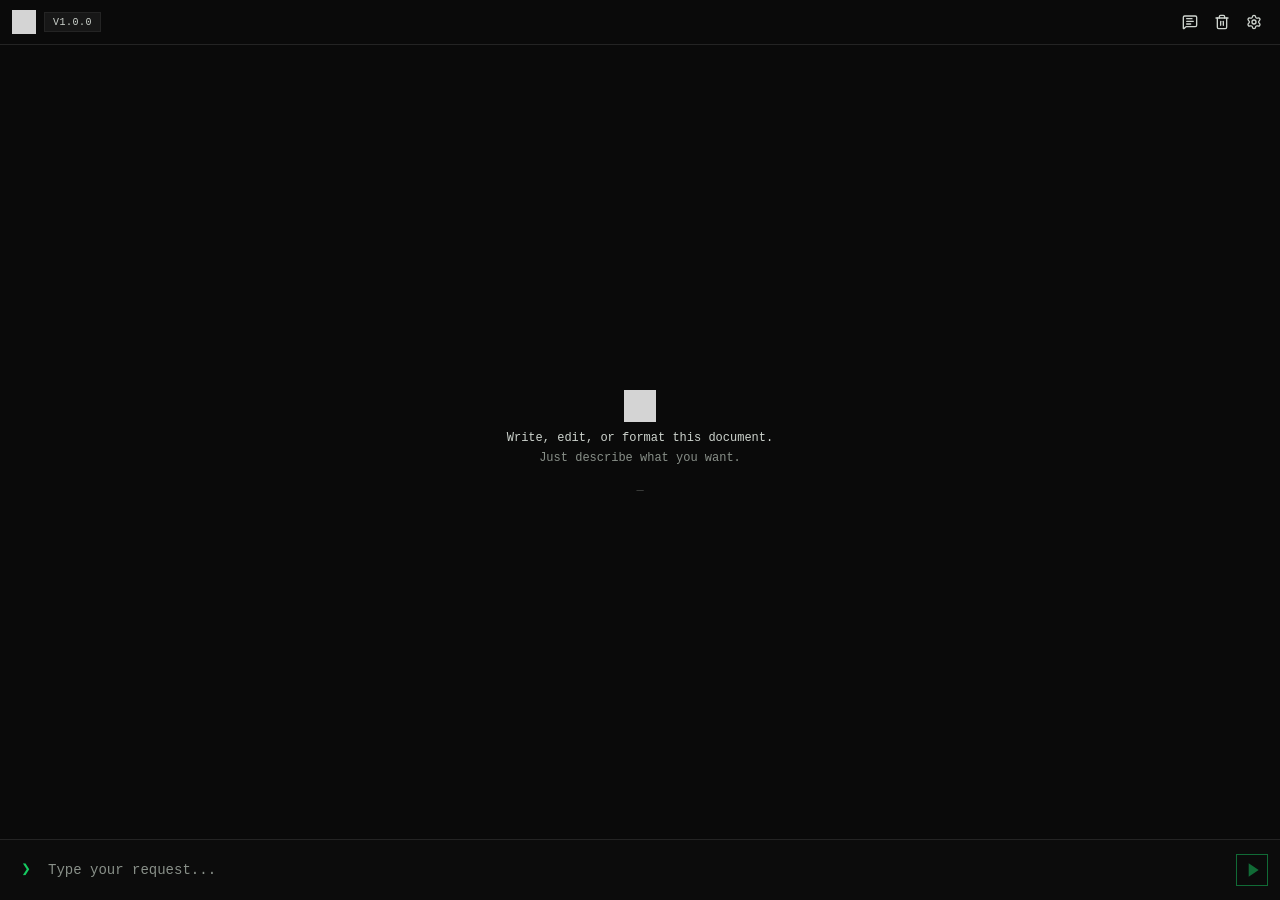
Scenario: App › enables send button when text is typed
(page scrolled)
In the text box with placeholder "Type your request...": (638, 870) x1=48 y1=852 x2=1228 y2=888, type "Hello"
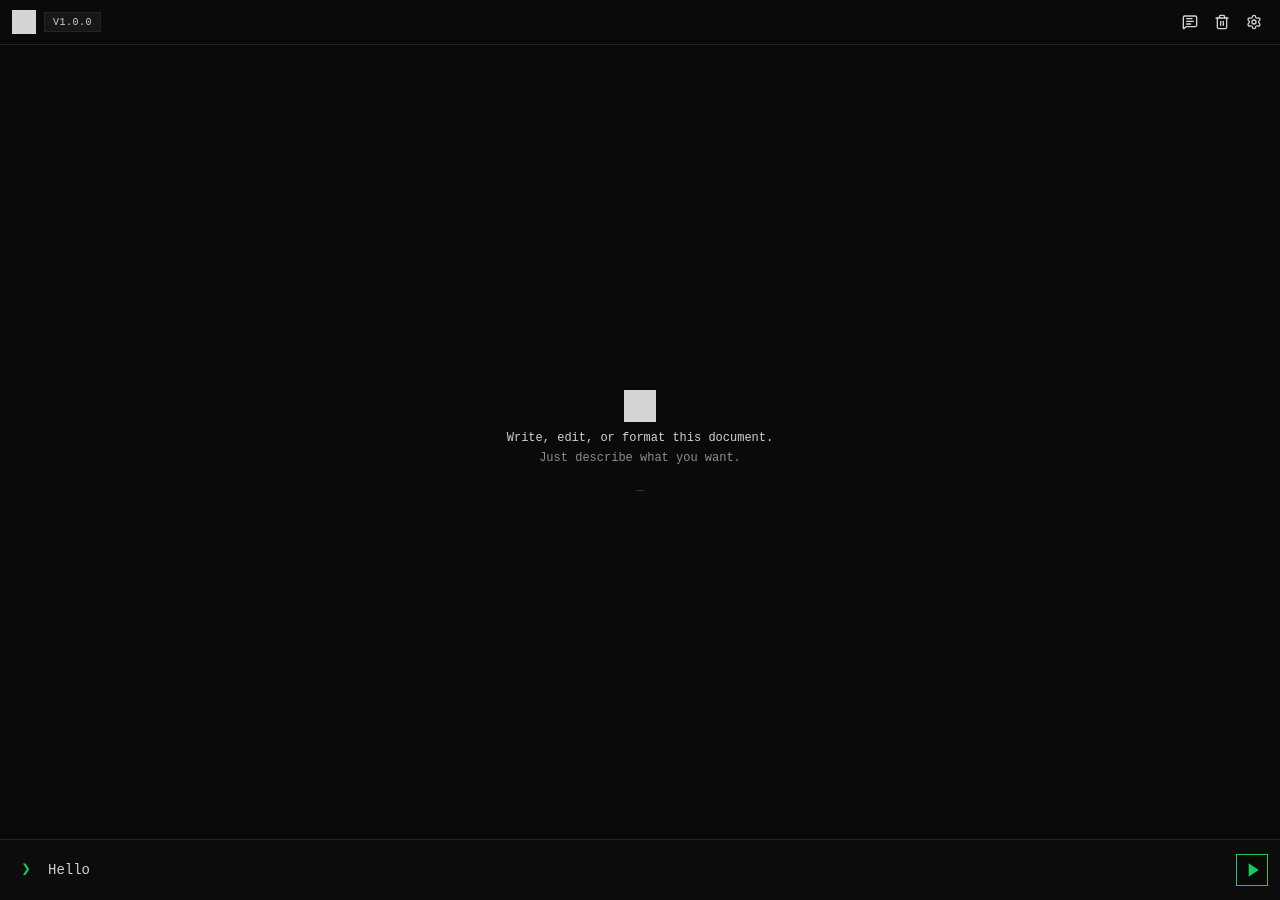
Expected: the button named "send" is enabled, x1=1236 y1=854 x2=1268 y2=886
